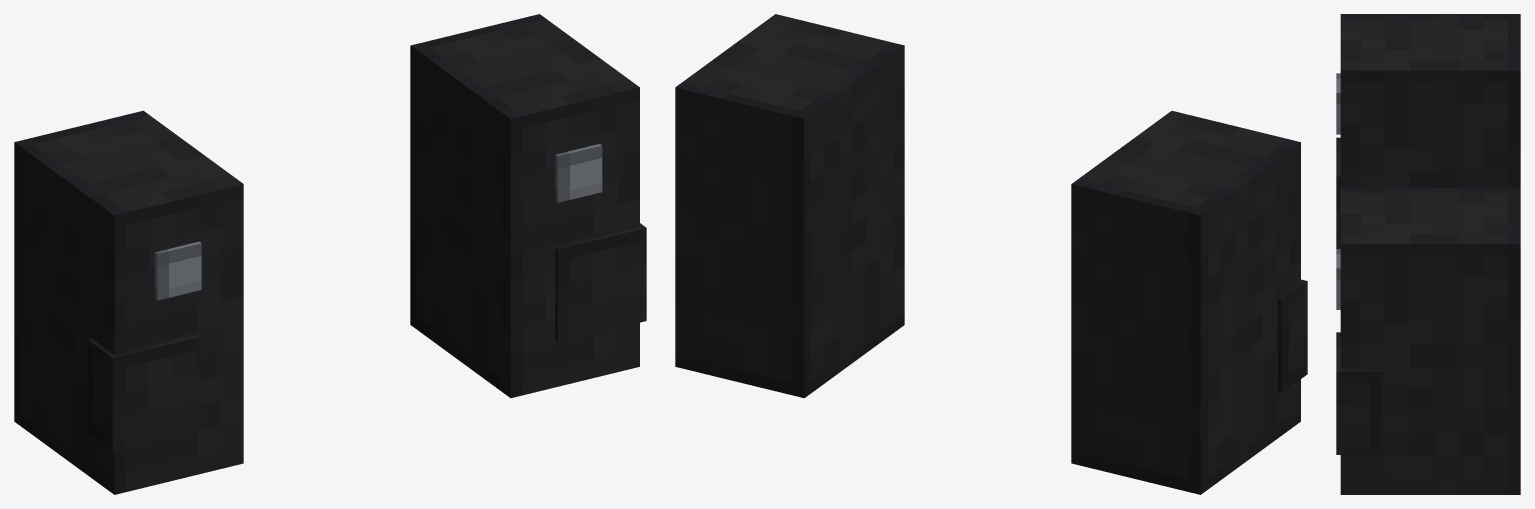
Rendered from studioMonitors_0.glb.
3 views of the same model, side by side, from view 1: azimuth 30°, elevation 25°; view 2: azimuth 150°, elevation 25°; view 3: azimuth 270°, elevation 25° (orthographic). The views are drawn at different scales.
Visible parts, largest first — view 1: studioMonitors_0; view 2: studioMonitors_0; view 3: studioMonitors_0.
Part boxes in pixels (box(x1,y1,x2,y2)): studioMonitors_0: box(14, 14, 646, 494); studioMonitors_0: box(675, 14, 1307, 494); studioMonitors_0: box(1336, 14, 1520, 494).
Size of the model in its own units: 0.75 by 0.375 by 0.25.
1 material, 1 textured.
